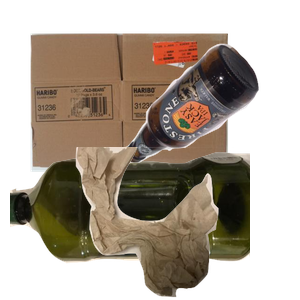cardboard: (28, 31, 249, 195)
glass: (120, 41, 300, 196)
plastic: (10, 149, 250, 300)
trash: (73, 147, 300, 300)
